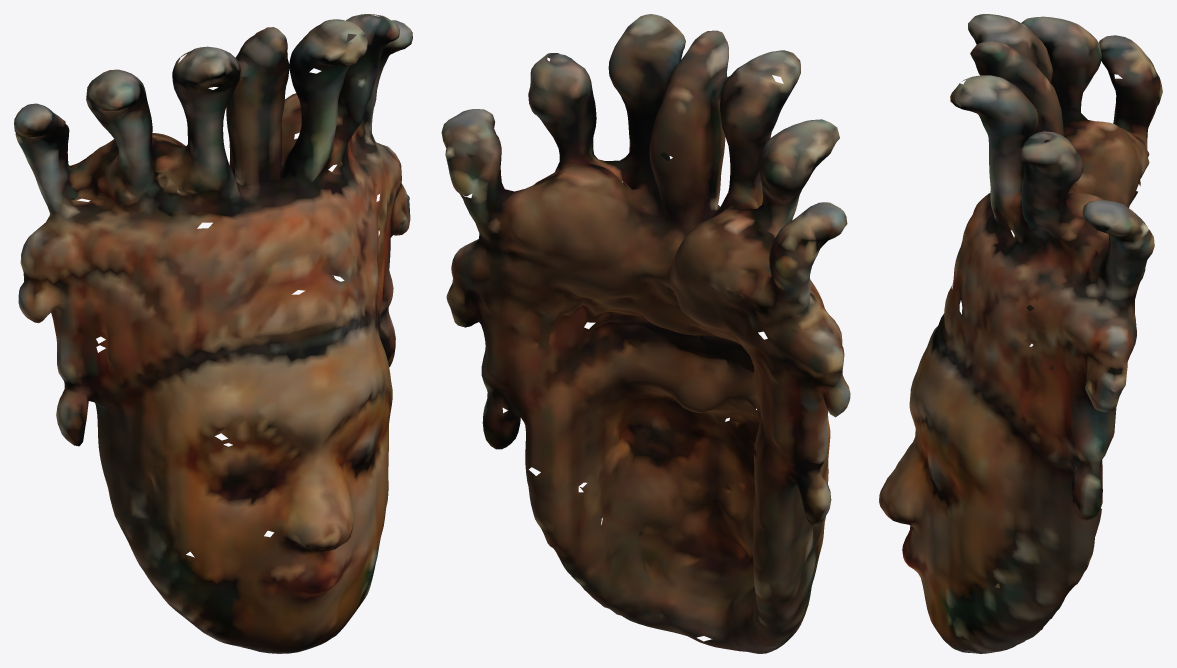
File: naga-raja-kolam.glb
3 renders of one model, left to right at view 1: azimuth 30°, elevation 25°; view 2: azimuth 150°, elevation 25°; view 3: azimuth 270°, elevation 25°, orthographic. The views are drawn at different scales.
Visible parts, largest first — view 1: geometry_0; view 2: geometry_0; view 3: geometry_0.
Part boxes in pixels (box(x1,y1,x2,y2)): geometry_0: box(14, 14, 412, 653); geometry_0: box(441, 14, 850, 653); geometry_0: box(879, 14, 1162, 653).
Bounding box in the file's own units: 0.6829 × 1.01 × 0.4377.
